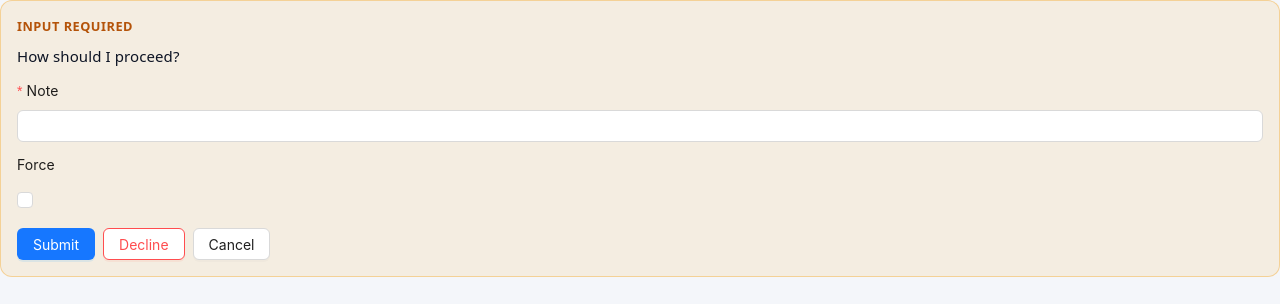
ElicitationForm › keeps the user on the form until required fields validate
Click the button "Submit": (56, 244) top-left (17, 228), bottom-right (95, 260)
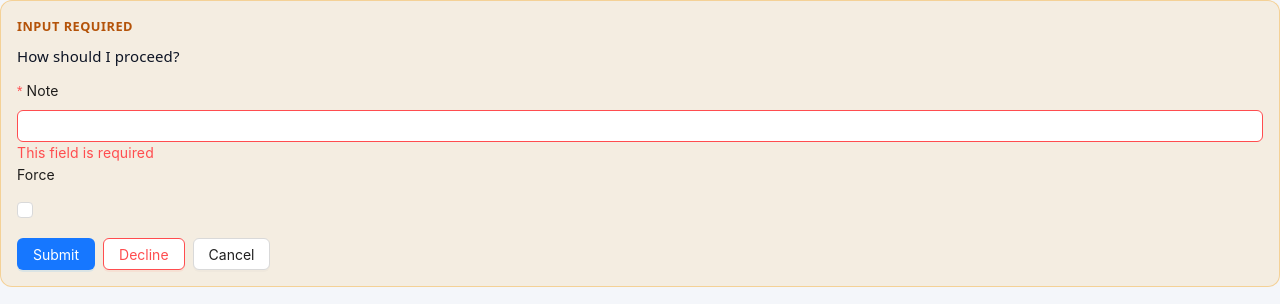
Expected: the text "This field is required" is shown, top-left (17, 144), bottom-right (154, 161)
